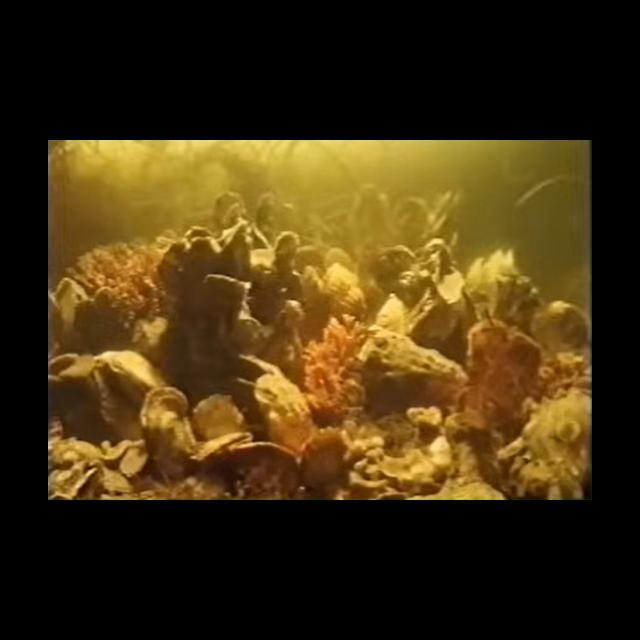Oyster-Closed: (201, 441, 299, 499), (49, 354, 111, 442), (140, 386, 196, 477), (49, 439, 132, 499), (254, 370, 314, 452), (204, 274, 265, 352), (378, 435, 451, 494), (158, 226, 222, 285), (95, 350, 165, 403), (301, 428, 346, 492), (192, 394, 244, 441), (250, 231, 300, 279), (100, 440, 149, 478), (55, 278, 89, 331), (324, 248, 356, 272)
Oyster-Open: (238, 354, 284, 386), (214, 191, 246, 230)
